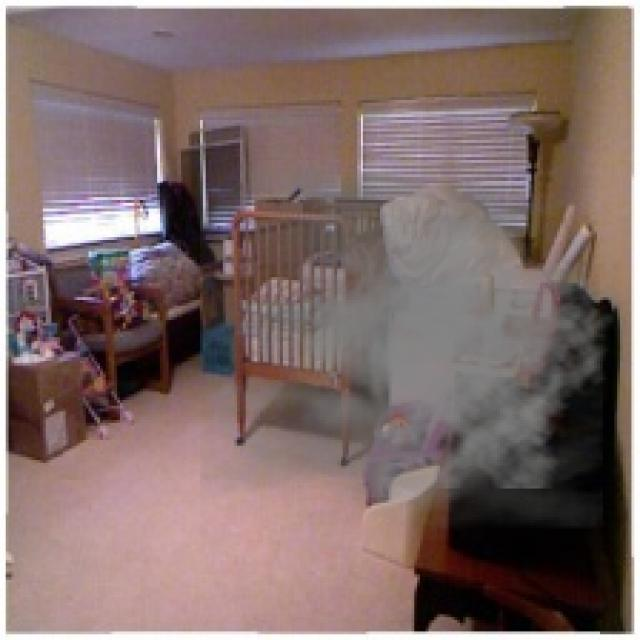smoke: (200, 163, 617, 528)
